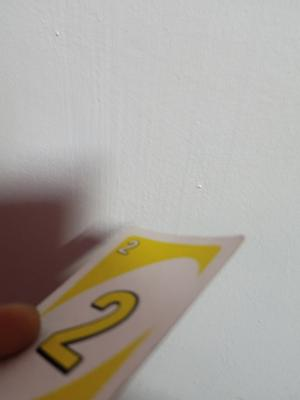num_2: (113, 235, 142, 265)
yellow: (60, 291, 124, 365)
